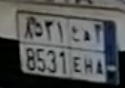1: (57, 21, 69, 75)
3: (45, 20, 58, 74)
5: (36, 22, 45, 72)
8: (24, 21, 35, 72)
A: (94, 25, 104, 76)
E: (71, 26, 82, 74)
H: (83, 29, 93, 75)
